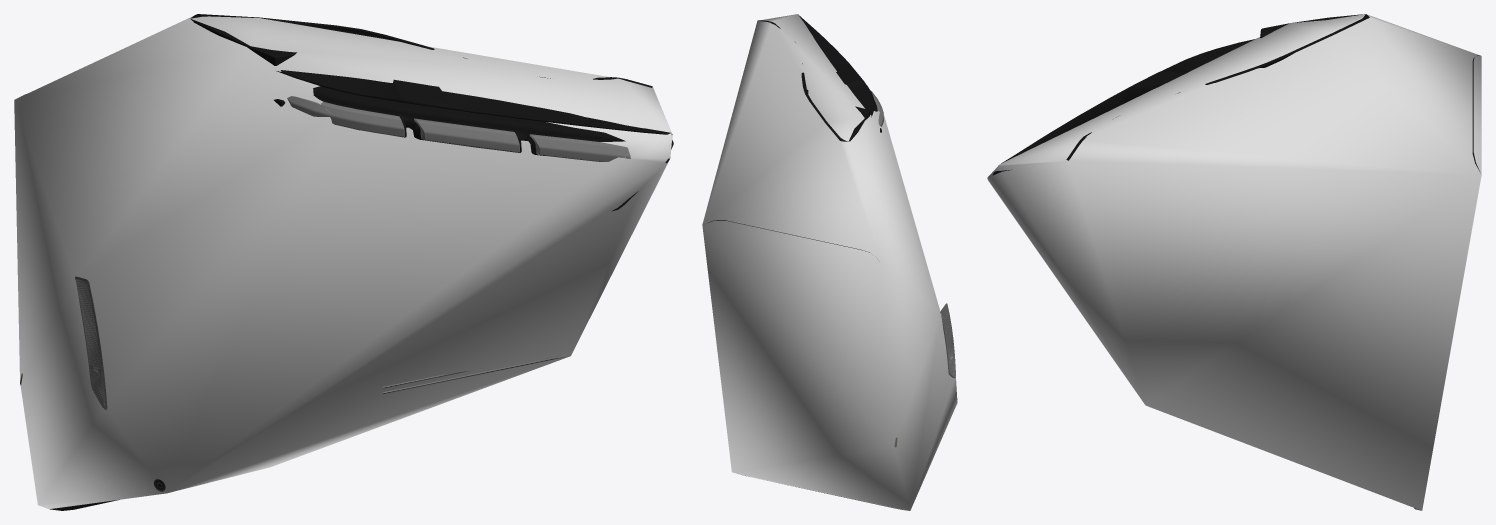
3 views of the same model, side by side, from view 1: azimuth 30°, elevation 25°; view 2: azimuth 150°, elevation 25°; view 3: azimuth 270°, elevation 25° (orthographic). The views are drawn at different scales.
Visible parts, largest first — view 1: light_stampede_head_l_01_col, light_stampede_head_l_01; view 2: light_stampede_head_l_01_col, light_stampede_head_l_01; view 3: light_stampede_head_l_01_col, light_stampede_head_l_01.
Part boxes in pixels (x1=…): light_stampede_head_l_01_col: x1=14, y1=16, x2=672, y2=509; light_stampede_head_l_01: x1=19, y1=14, x2=673, y2=510; light_stampede_head_l_01_col: x1=702, y1=14, x2=957, y2=510; light_stampede_head_l_01: x1=708, y1=14, x2=957, y2=509; light_stampede_head_l_01_col: x1=987, y1=14, x2=1481, y2=510; light_stampede_head_l_01: x1=989, y1=14, x2=1480, y2=510.
Size of the model in its own units: 0.5131 by 0.5772 by 0.5818.
Materials: 4 (4 with a texture image).
